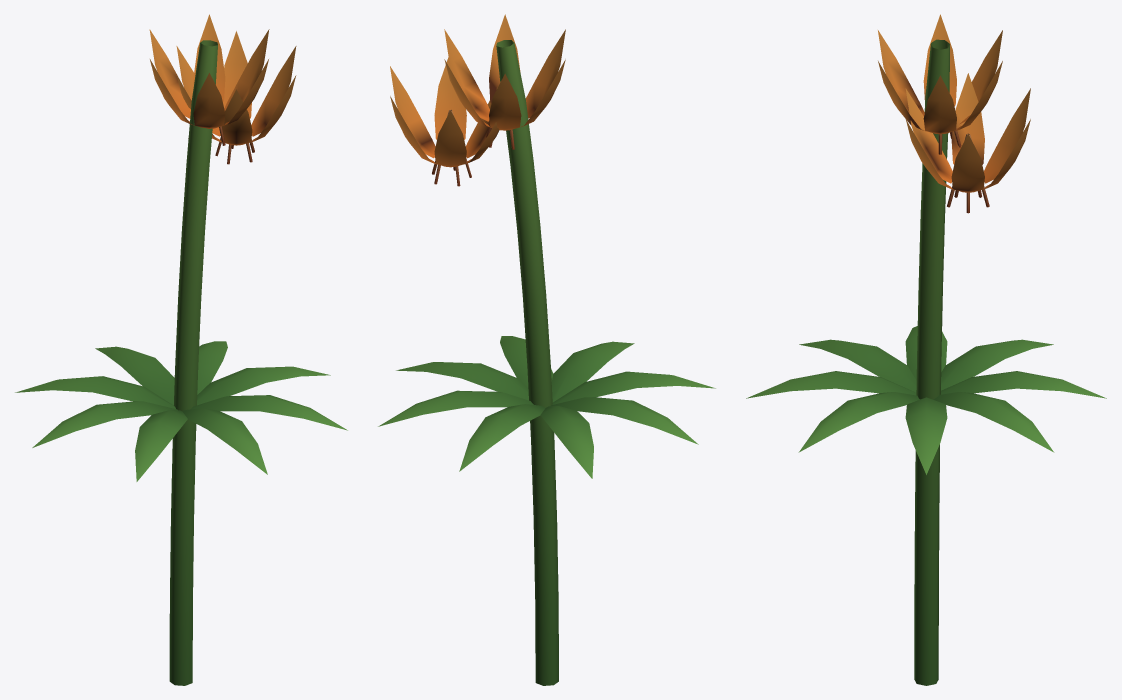
Rendered from Mtn_Kurumayuri.fbx.
3 renders of one model, left to right at view 1: azimuth 30°, elevation 25°; view 2: azimuth 150°, elevation 25°; view 3: azimuth 270°, elevation 25°, orthographic. The views are drawn at different scales.
Parts seen in each view (by area): view 1: Mtn_Kurumayuri; view 2: Mtn_Kurumayuri; view 3: Mtn_Kurumayuri.
Part boxes in pixels (x1,y1,x2,y2): Mtn_Kurumayuri: (15,14,347,685); Mtn_Kurumayuri: (378,14,715,685); Mtn_Kurumayuri: (746,14,1106,685).
Bounding box in the file's own units: 2.6 × 5.19 × 2.6.
